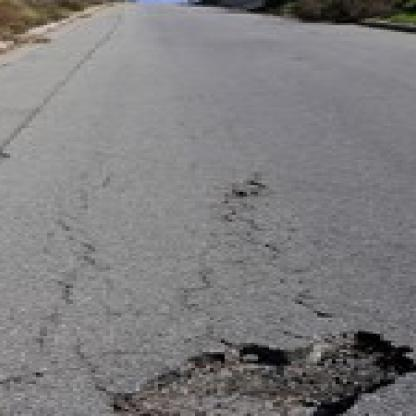pothole: (117, 327, 416, 416)
